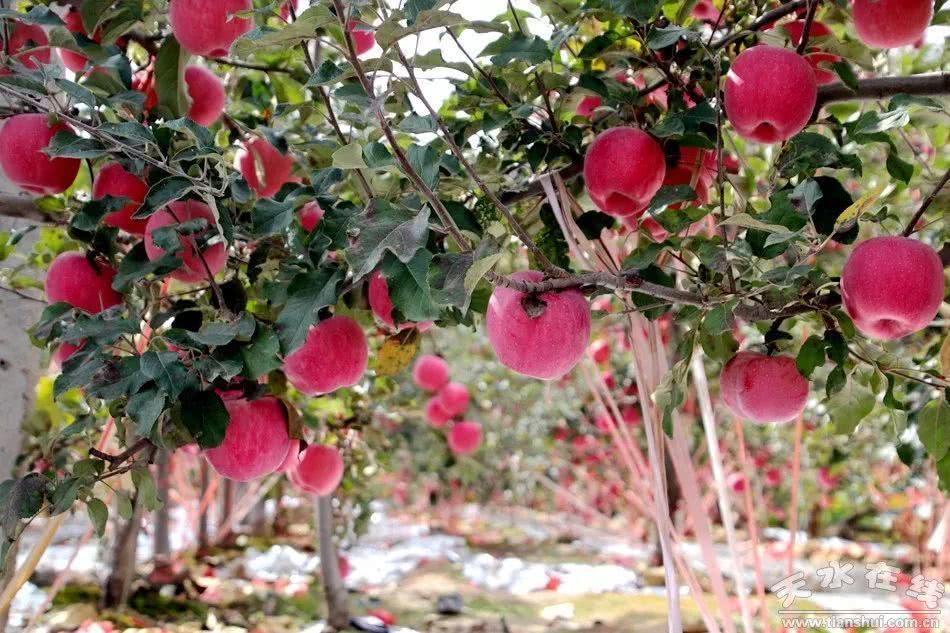apple: (485, 267, 589, 382), (840, 231, 945, 338), (724, 45, 816, 144), (199, 397, 292, 482), (583, 127, 668, 218), (282, 314, 368, 399), (1, 114, 82, 197), (164, 1, 257, 57), (294, 441, 343, 497)
